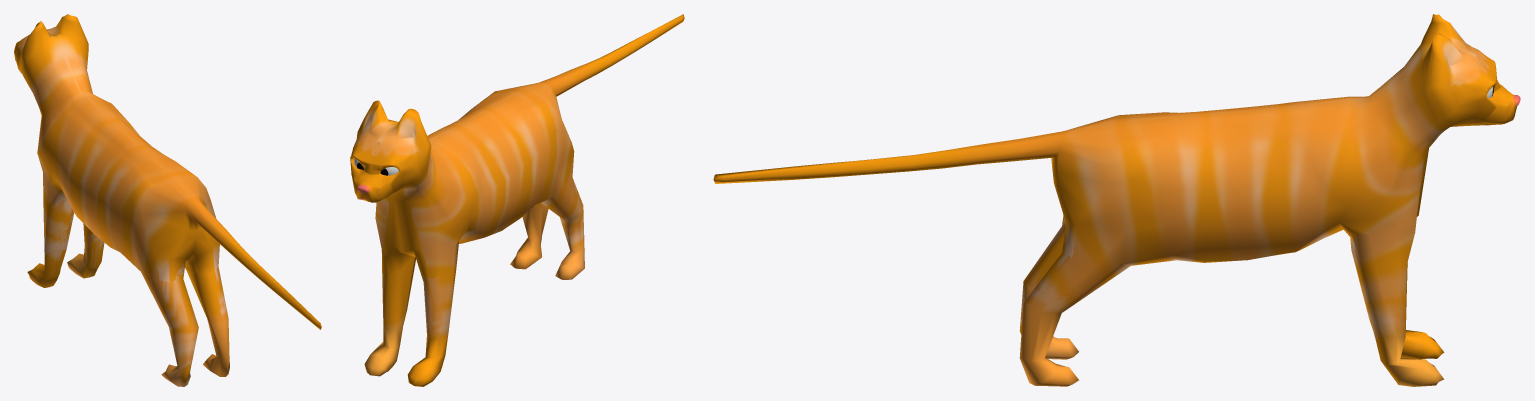
Rendered from CatGun.fbx.
The picture shows the model from 3 angles, left to right: view 1: azimuth 30°, elevation 25°; view 2: azimuth 150°, elevation 25°; view 3: azimuth 270°, elevation 25°; orthographic projection. The views are drawn at different scales.
Visible parts, largest first — view 1: 3; view 2: 3; view 3: 3.
Boxes of the visible parts, x1,y1,x2,y2 form: 3: (14,14,321,386); 3: (350,14,684,386); 3: (713,14,1520,386).
Bounding box in the file's own units: 55.96 × 170 × 360.
3 materials, 1 textured.
